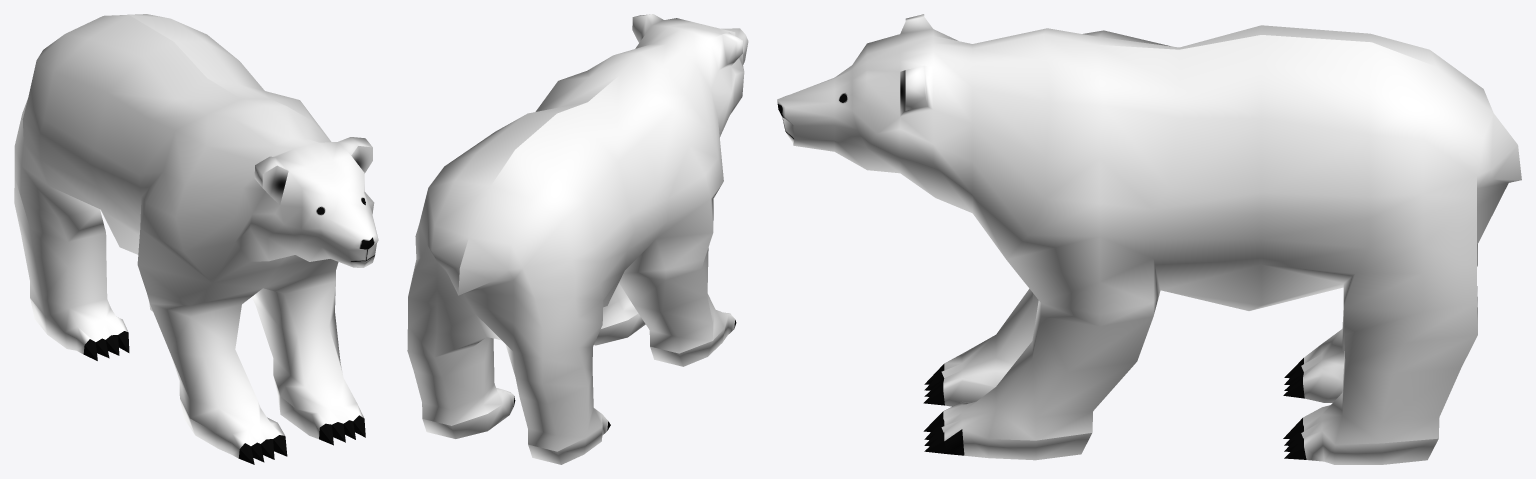
File: Norm.fbx
3 views of the same model, side by side, from view 1: azimuth 30°, elevation 25°; view 2: azimuth 150°, elevation 25°; view 3: azimuth 270°, elevation 25° (orthographic). The views are drawn at different scales.
Visible parts, largest first — view 1: polySurface5; view 2: polySurface5; view 3: polySurface5.
Boxes of the visible parts, x1=… form: polySurface5: x1=14, y1=14, x2=378, y2=464; polySurface5: x1=407, y1=14, x2=748, y2=464; polySurface5: x1=777, y1=14, x2=1521, y2=464.
Bounding box in the file's own units: 1.73 × 2.53 × 4.44.
